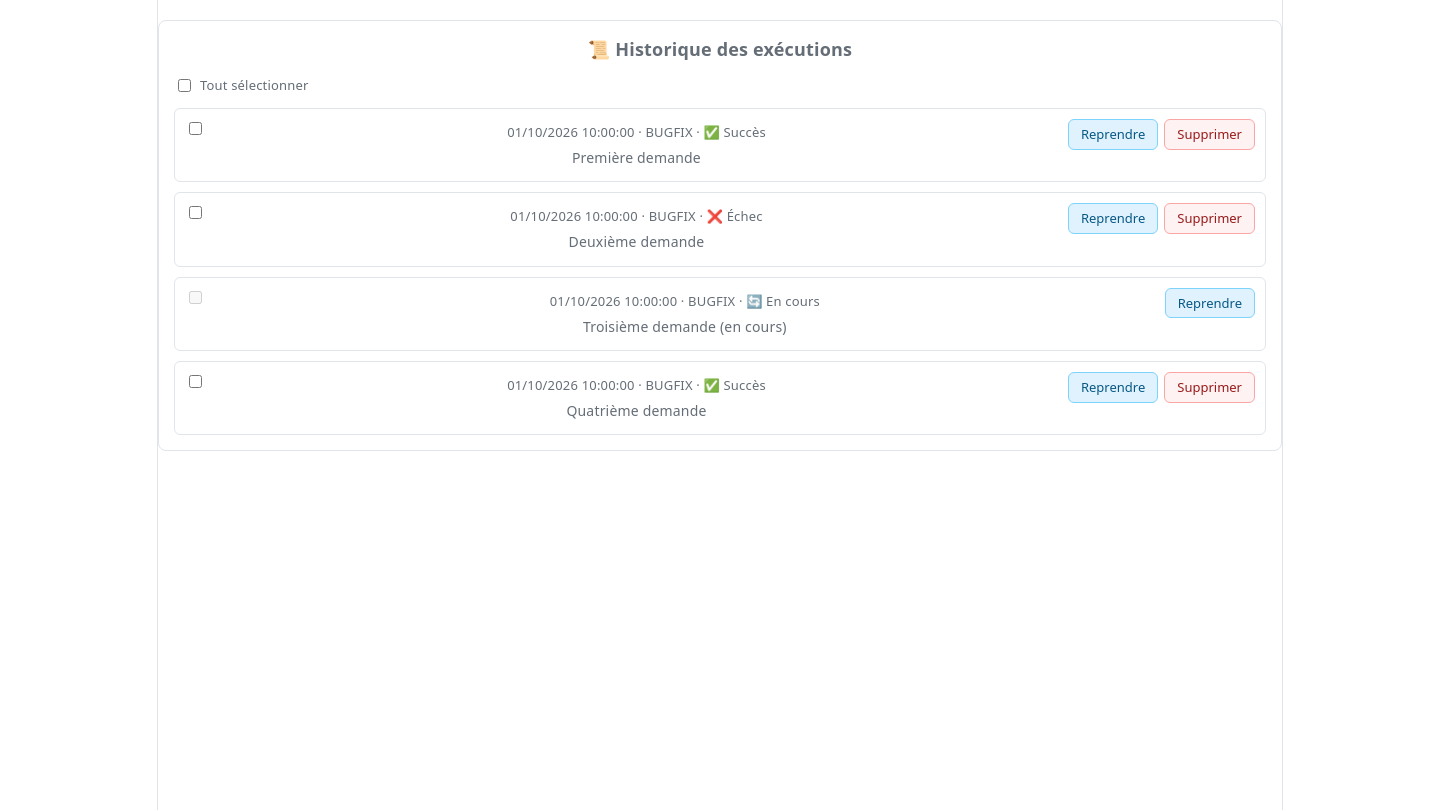
Test: HistoryPanel — sélection multiple › « Annuler la sélection » vide tout
Expected: the text "Première demande" is shown, [572, 148, 701, 167]
What coordinates should you click on to do the following:
click the checkbox named "Première demande"
I would click on:
 (196, 129)
Its box is [189, 122, 202, 135].
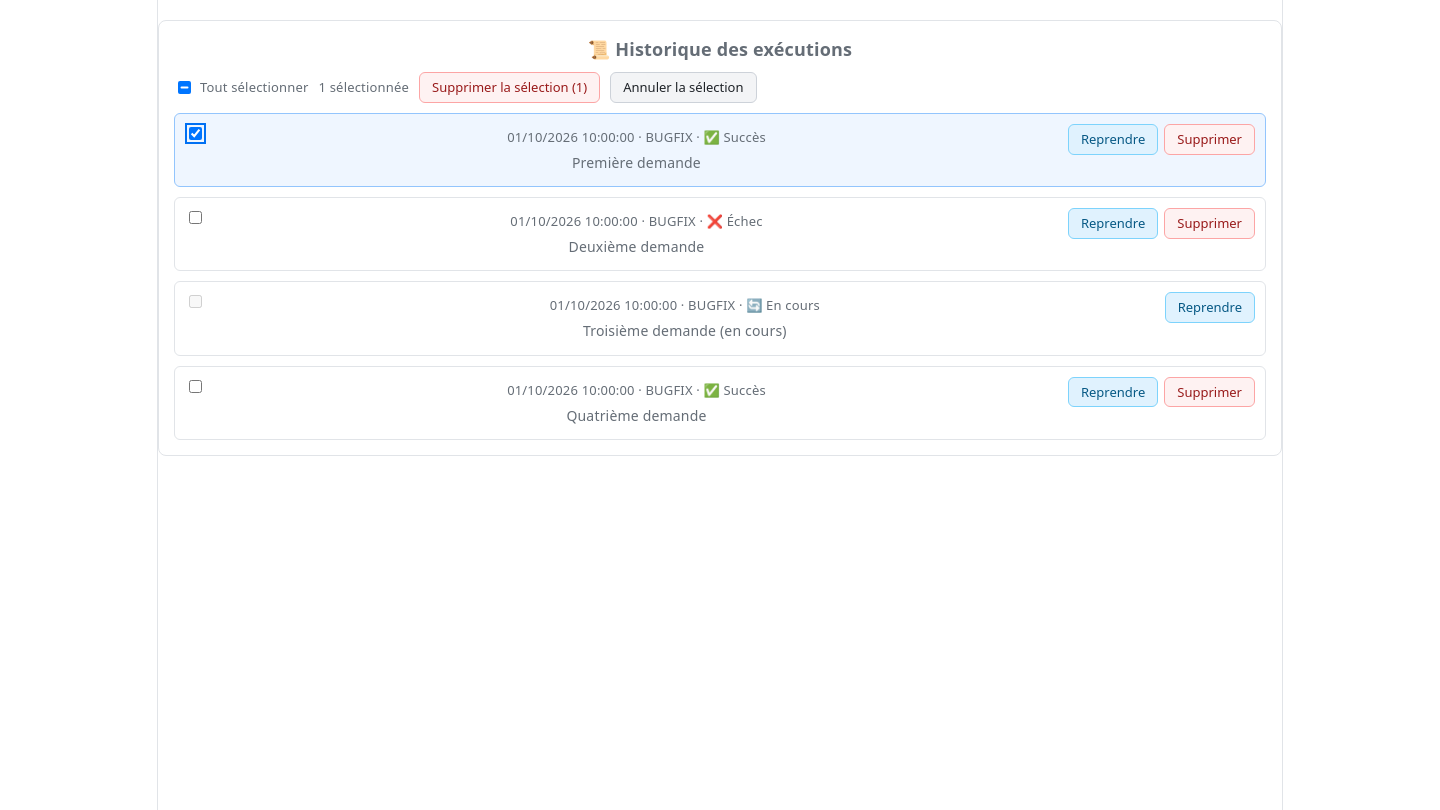
What coordinates should you click on to do the following:
click the button "Annuler la sélection"
I would click on:
 (683, 88)
Its box is [610, 72, 756, 103].
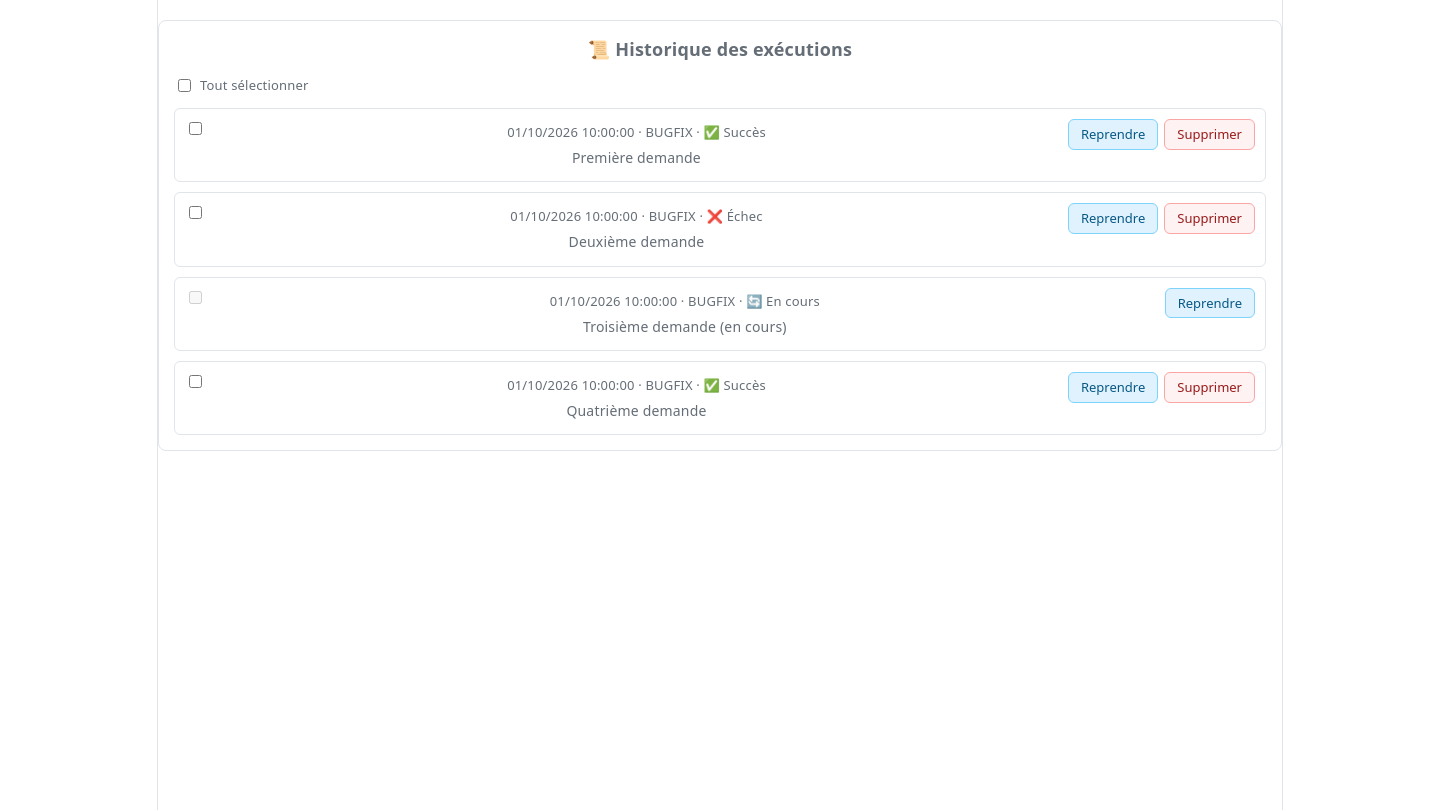
Expected: the text "sélectionnée" is gone
